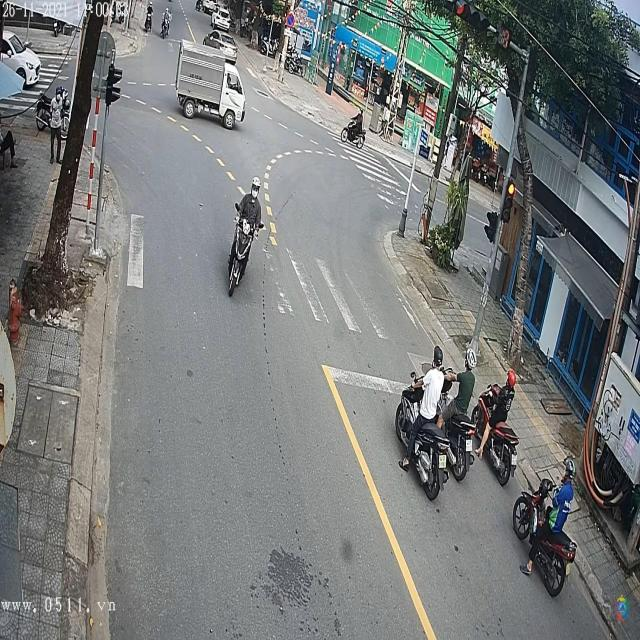car: (203, 33, 240, 61)
motorcycle: (517, 475, 577, 599), (473, 373, 523, 486), (400, 416, 451, 502), (226, 211, 258, 299), (340, 116, 367, 153)
truck: (175, 44, 248, 128)
